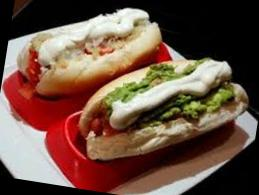Completos: (73, 36, 258, 180), (13, 0, 163, 110)
